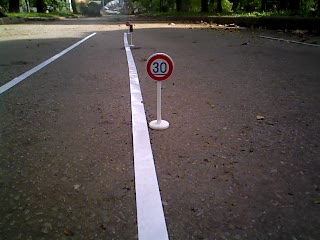limit 30: (145, 51, 176, 84)
